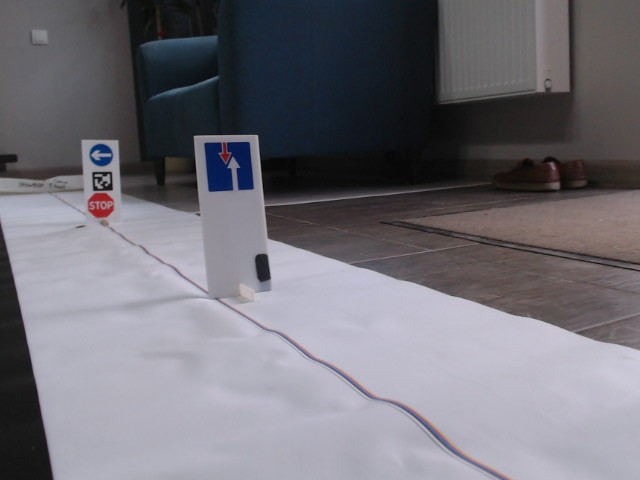Stop: (87, 191, 115, 217)
priority_movement: (202, 141, 255, 192)
